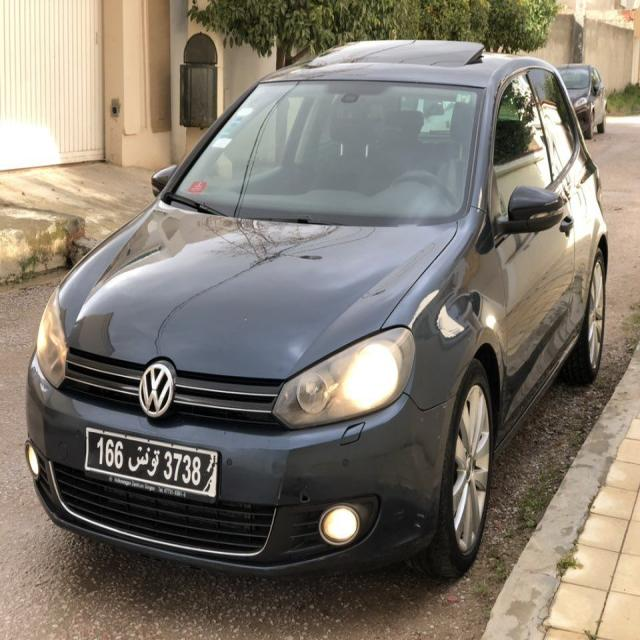LP: (83, 423, 217, 503)
